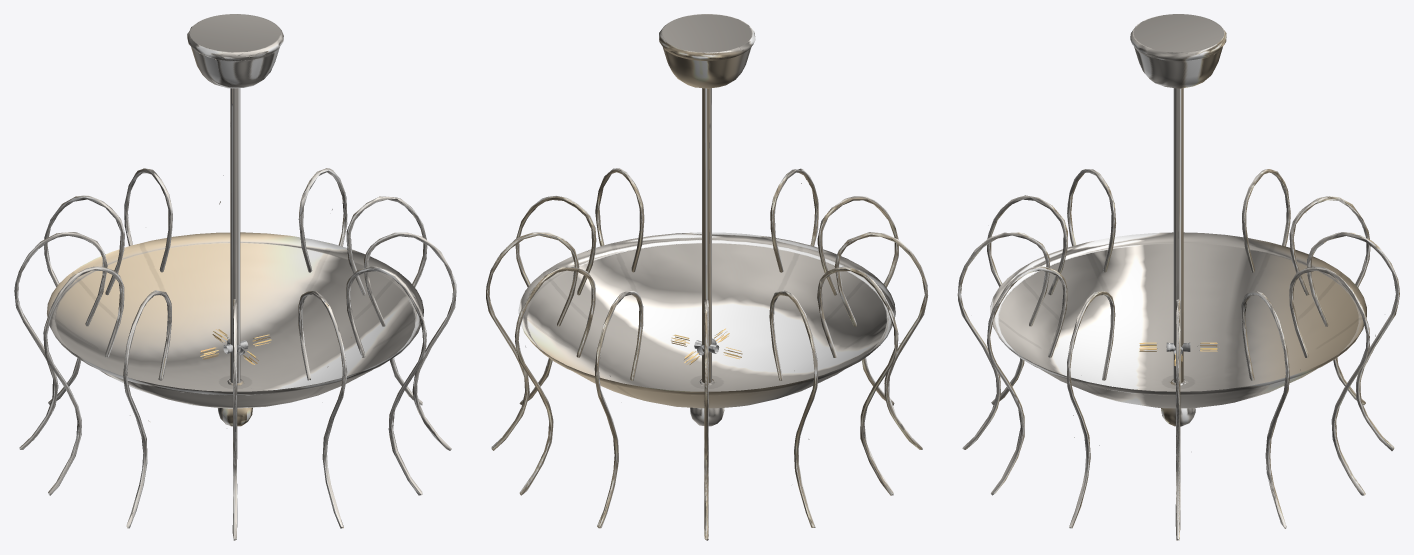
Rendered from raw_model.obj.
The picture shows the model from 3 angles, left to right: view 1: azimuth 30°, elevation 25°; view 2: azimuth 150°, elevation 25°; view 3: azimuth 270°, elevation 25°; orthographic projection.
Parts seen in each view (by area): view 1: solid_002; view 2: solid_002; view 3: solid_002.
Boxes of the visible parts, x1,y1,x2,y2 form: solid_002: [14, 14, 456, 540]; solid_002: [486, 14, 928, 540]; solid_002: [957, 14, 1399, 540].
Bounding box in the file's own units: 0.6606 × 0.6866 × 0.6602.
Materials: 1 (1 with a texture image).
